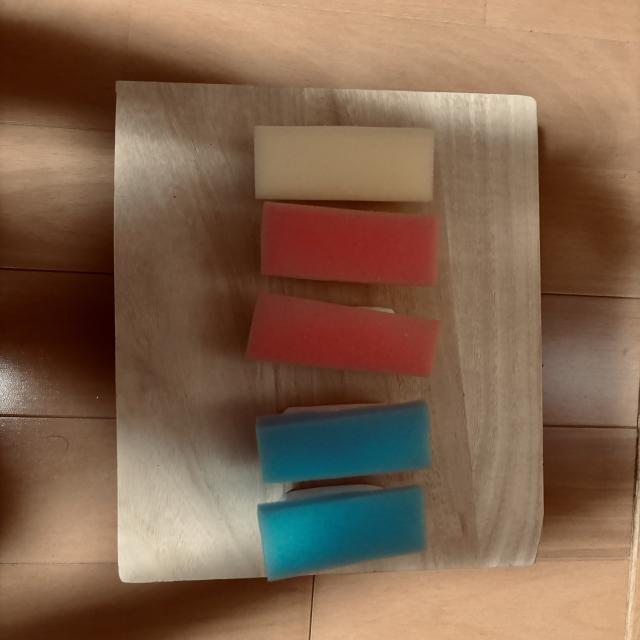ika: (257, 484, 427, 580), (256, 400, 431, 484)
tai: (246, 293, 441, 377), (261, 202, 440, 287)
tamago: (254, 126, 434, 202)
